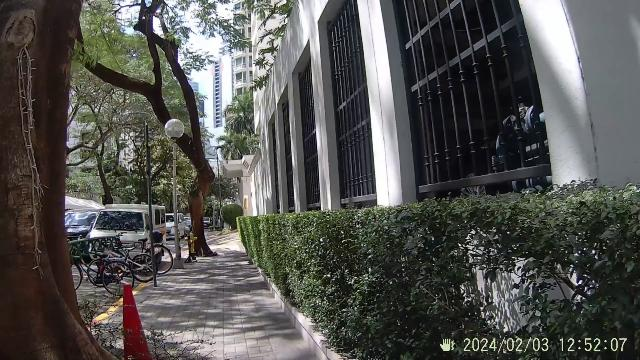lamp_post: (166, 115, 187, 269)
tree: (188, 133, 206, 259)
